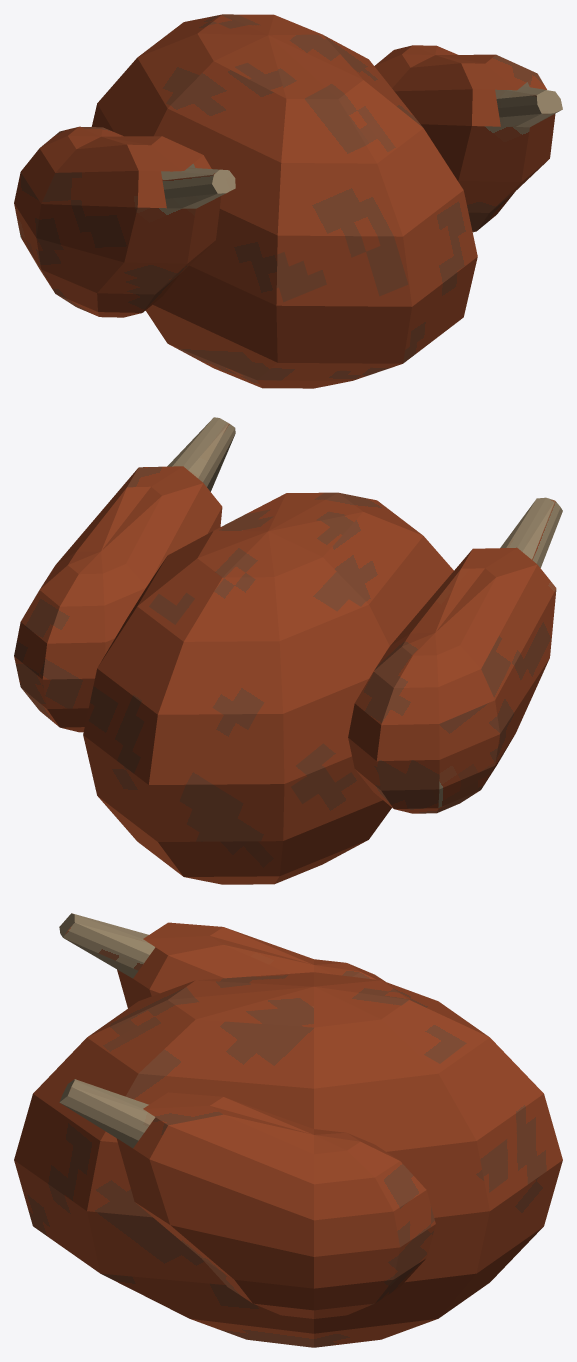
The model's file is turkey.glb.
The picture shows the model from 3 angles, top to bottom: view 1: azimuth 30°, elevation 25°; view 2: azimuth 150°, elevation 25°; view 3: azimuth 270°, elevation 25°; orthographic projection. The views are drawn at different scales.
Visible parts, largest first — view 1: Sphere.004; view 2: Sphere.004; view 3: Sphere.004.
Part boxes in pixels (x1,y1,x2,y2): Sphere.004: (14, 14, 562, 388); Sphere.004: (14, 417, 562, 884); Sphere.004: (14, 913, 562, 1347).
Size of the model in its own units: 5.52 by 3.78 by 5.43.
Materials: 1 (1 with a texture image).
